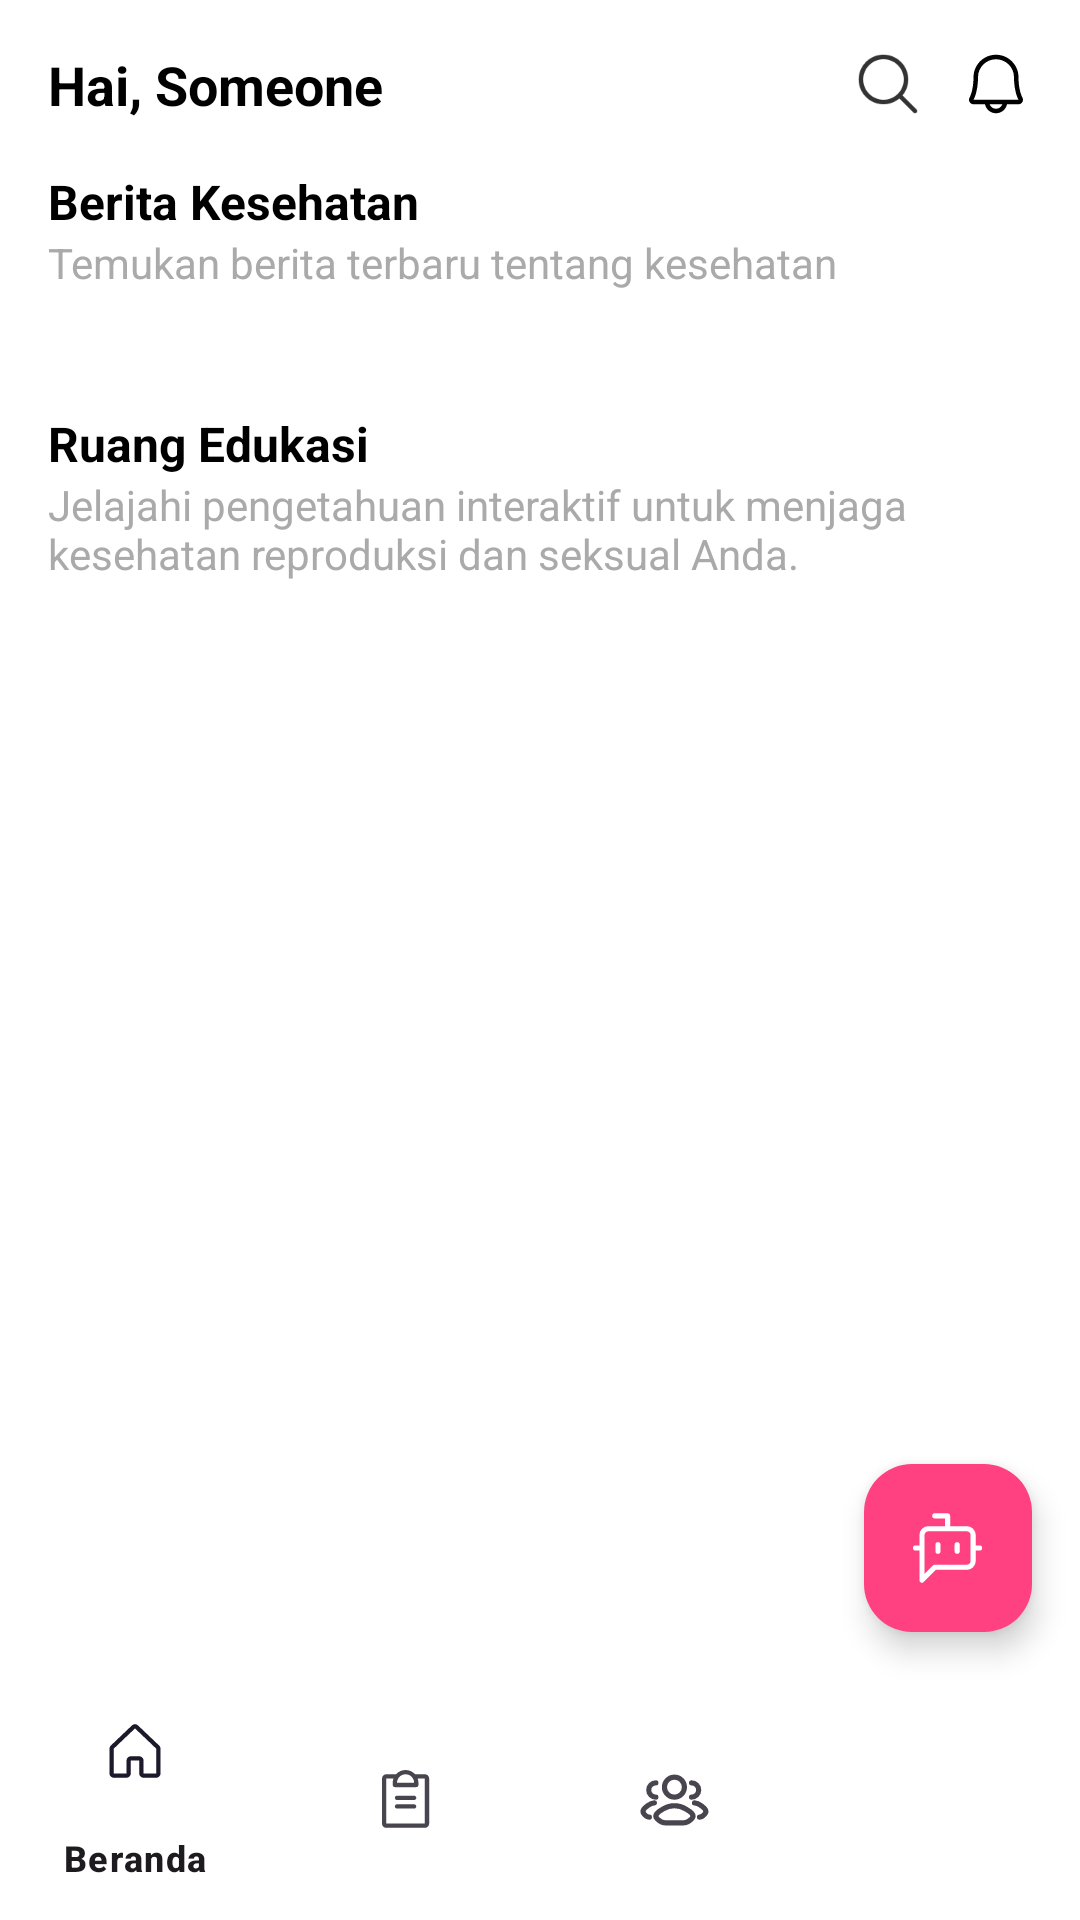

Where icons sit on this 1080×1920 app screen, as box(x1, y1, x2, y2):
chatbot: box(864, 1464, 1032, 1632)
notification: box(969, 54, 1023, 114)
search: box(858, 54, 918, 114)
